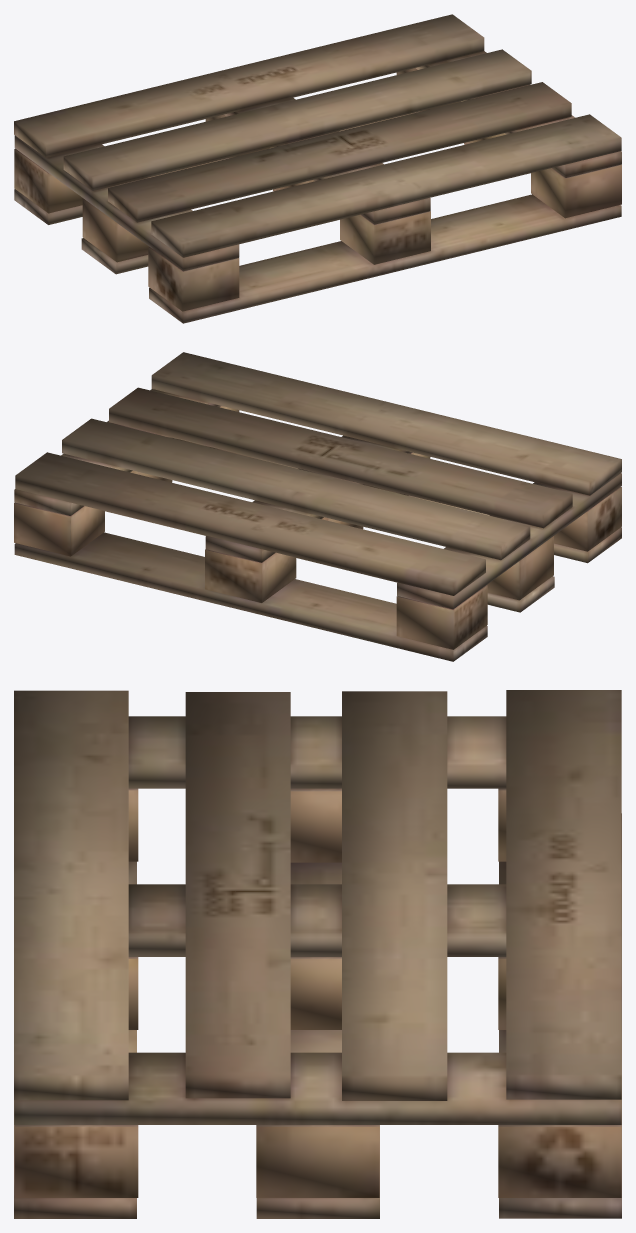
File: pallet.glb
3 views of the same model, one above another, from view 1: azimuth 30°, elevation 25°; view 2: azimuth 150°, elevation 25°; view 3: azimuth 270°, elevation 25° (orthographic). The views are drawn at different scales.
Parts seen in each view (by area): view 1: sm_pallet_a01_mesh_00; view 2: sm_pallet_a01_mesh_00; view 3: sm_pallet_a01_mesh_00.
Boxes of the visible parts, x1,y1,x2,y2 form: sm_pallet_a01_mesh_00: [14, 14, 621, 323]; sm_pallet_a01_mesh_00: [14, 352, 621, 661]; sm_pallet_a01_mesh_00: [14, 690, 621, 1218].
Bounding box in the file's own units: 1.2 × 0.2067 × 0.7985.
Materials: 1 (1 with a texture image).
